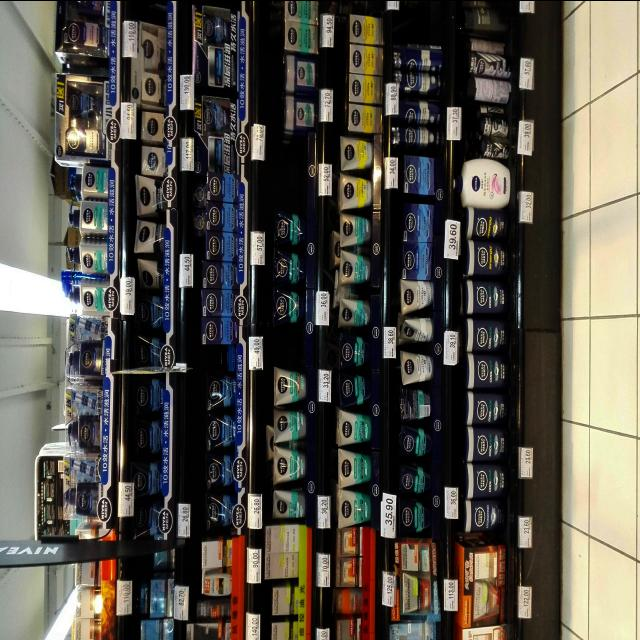empty_space: (400, 4, 448, 40), (276, 146, 304, 205), (277, 332, 301, 369), (203, 347, 226, 377)
